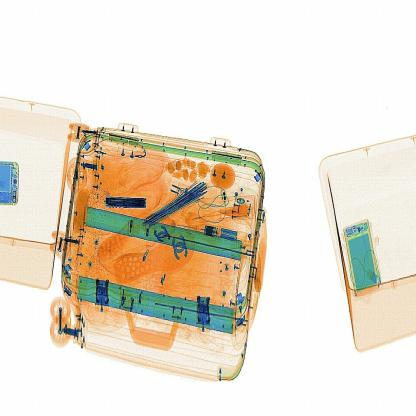scissors: (108, 193, 148, 216)
